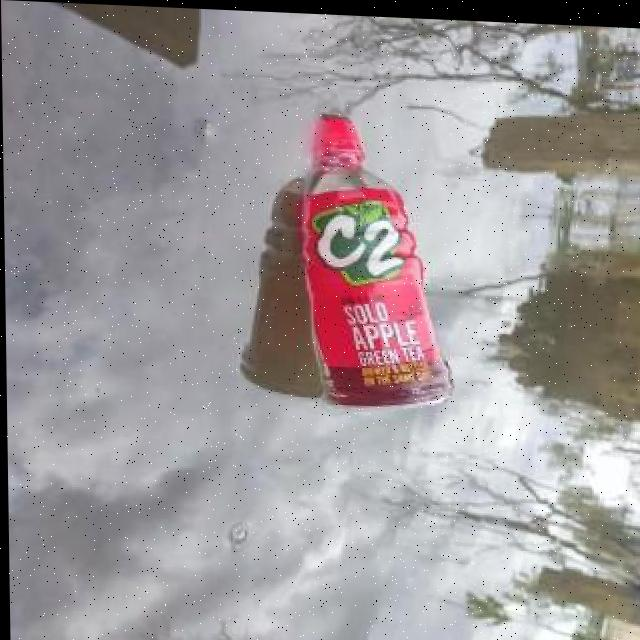bottle: (291, 105, 463, 413)
